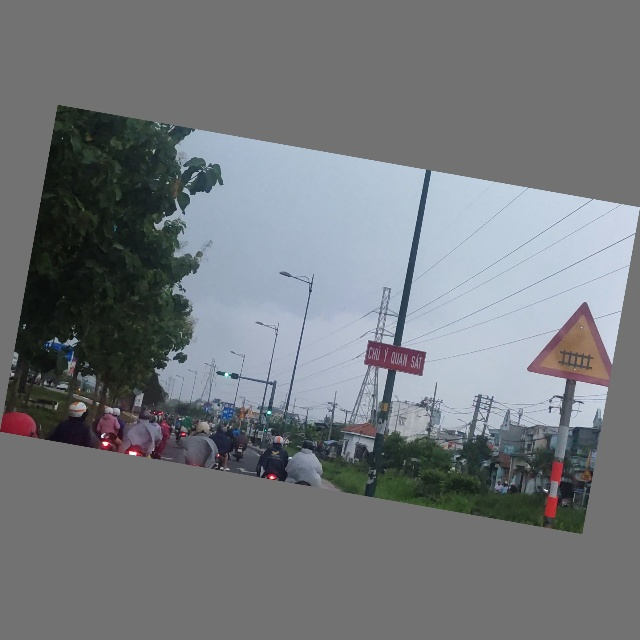I.407a: (204, 408, 210, 414)
W.210: (525, 294, 622, 389)
